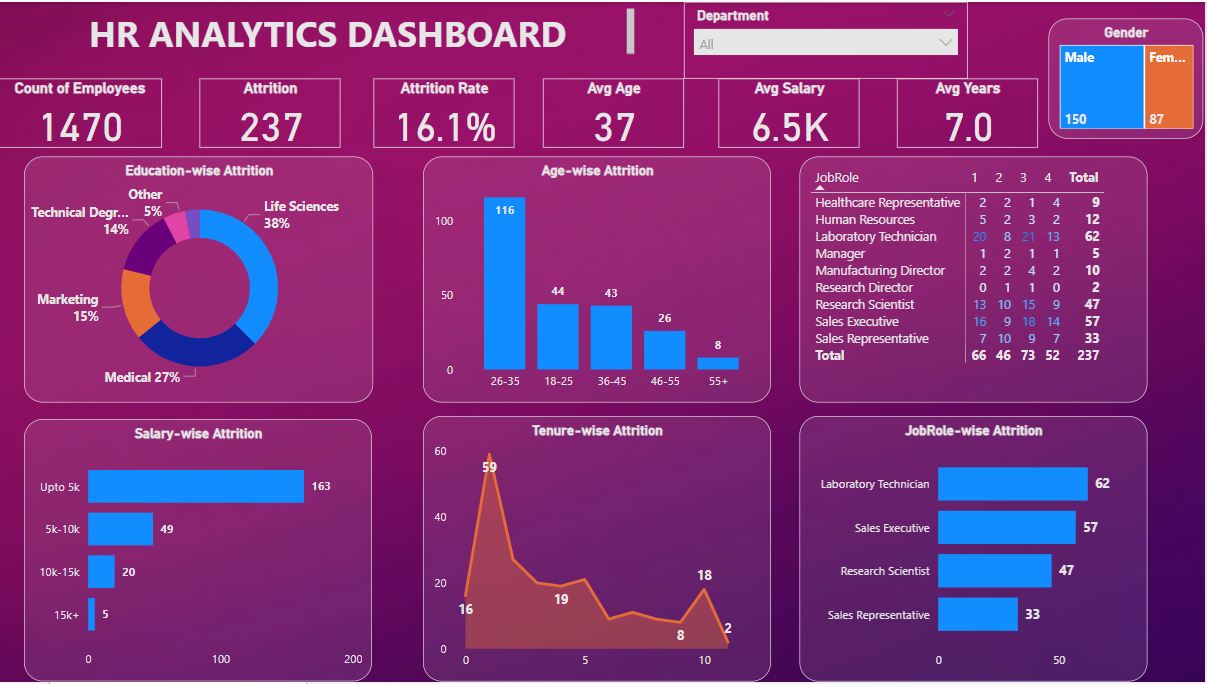

What the dashboard file says about the page in this screenshot:
{"tool":"powerbi","page":{"name":"HR Analytics Dashboard","canvas":[1280,720],"ordinal":0},"visuals":[{"type":"card","title":"Count of Employees","fields":{"Values":["CountNonNull(HR_Analytics.EmpID)"]},"box":[0,81.1,174.8,73.1],"z":0},{"type":"card","title":"Attrition","fields":{"Values":["Sum(HR_Analytics.AttritionCount)"]},"box":[214.6,81.1,149.4,73.1],"z":1000},{"type":"card","title":"Attrition Rate","fields":{"Values":["HR_Analytics.AttritionRate"]},"box":[398.9,81.1,149.4,73.1],"z":2000},{"type":"card","title":"Avg Age","fields":{"Values":["Avg(HR_Analytics.Age)"]},"box":[578.5,81.1,149.4,73.1],"z":3000},{"type":"card","title":"Avg Salary","fields":{"Values":["Avg(HR_Analytics.MonthlyIncome)"]},"box":[764.5,81.1,149.4,73.1],"z":4000},{"type":"card","title":"Avg Years","fields":{"Values":["Avg(HR_Analytics.YearsAtCompany)"]},"box":[953.6,81.1,149.4,73.1],"z":5000},{"type":"donutChart","title":"Education-wise Attrition","fields":{"Category":["HR_Analytics.EducationField"],"Y":["Sum(HR_Analytics.AttritionCount)"]},"box":[28.6,163.7,370.3,260.7],"z":6000},{"type":"columnChart","title":"Age-wise Attrition","fields":{"Category":["HR_Analytics.AgeGroup"],"Y":["Sum(HR_Analytics.AttritionCount)"]},"box":[451.4,163.7,368.7,260.7],"z":7000},{"type":"pivotTable","fields":{"Rows":["HR_Analytics.JobRole"],"Columns":["HR_Analytics.JobSatisfaction"],"Values":["Sum(HR_Analytics.AttritionCount)"]},"box":[850.3,163.7,368.7,260.7],"z":8000},{"type":"barChart","title":"Salary-wise Attrition","fields":{"Category":["HR_Analytics.SalarySlab"],"Y":["Sum(HR_Analytics.AttritionCount)"]},"box":[28.3,442.2,368.5,277.8],"z":9000},{"type":"barChart","title":"JobRole-wise Attrition","fields":{"Category":["HR_Analytics.JobRole"],"Y":["Sum(HR_Analytics.AttritionCount)"]},"box":[850.4,438.4,368.5,281.6],"z":10000},{"type":"areaChart","title":"Tenure-wise Attrition","fields":{"Category":["HR_Analytics.YearsAtCompany"],"Y":["Sum(HR_Analytics.AttritionCount)"]},"box":[451.7,438.4,368.5,281.6],"z":11000},{"type":"treemap","title":"Gender","fields":{"Group":["HR_Analytics.Gender"],"Values":["Sum(HR_Analytics.AttritionCount)"]},"box":[1114.2,17.5,163.7,127.2],"z":12000},{"type":"slicer","fields":{"Values":["HR_Analytics.Department"]},"box":[727.9,0,300.4,81.1],"z":13000},{"type":"textbox","box":[28.6,1.6,651.7,58.8],"z":14000}]}

Visuals, with their boxes in screenshot pixels (x1, y1, x2, y2), scaled from the page's 1280x720 canvas onto the 1207x684 screenshot:
"Count of Employees" card: select_region(0, 77, 165, 146)
"Attrition" card: select_region(202, 77, 343, 146)
"Attrition Rate" card: select_region(376, 77, 517, 146)
"Avg Age" card: select_region(546, 77, 686, 146)
"Avg Salary" card: select_region(721, 77, 862, 146)
"Avg Years" card: select_region(899, 77, 1040, 146)
"Education-wise Attrition" donutChart: select_region(27, 156, 376, 403)
"Age-wise Attrition" columnChart: select_region(426, 156, 773, 403)
pivotTable - HR_Analytics.JobRole x HR_Analytics.JobSatisfaction: select_region(802, 156, 1149, 403)
"Salary-wise Attrition" barChart: select_region(27, 420, 374, 683)
"JobRole-wise Attrition" barChart: select_region(802, 416, 1149, 683)
"Tenure-wise Attrition" areaChart: select_region(426, 416, 773, 683)
"Gender" treemap: select_region(1051, 17, 1205, 137)
slicer - HR_Analytics.Department: select_region(686, 0, 970, 77)
textbox: select_region(27, 2, 642, 57)
